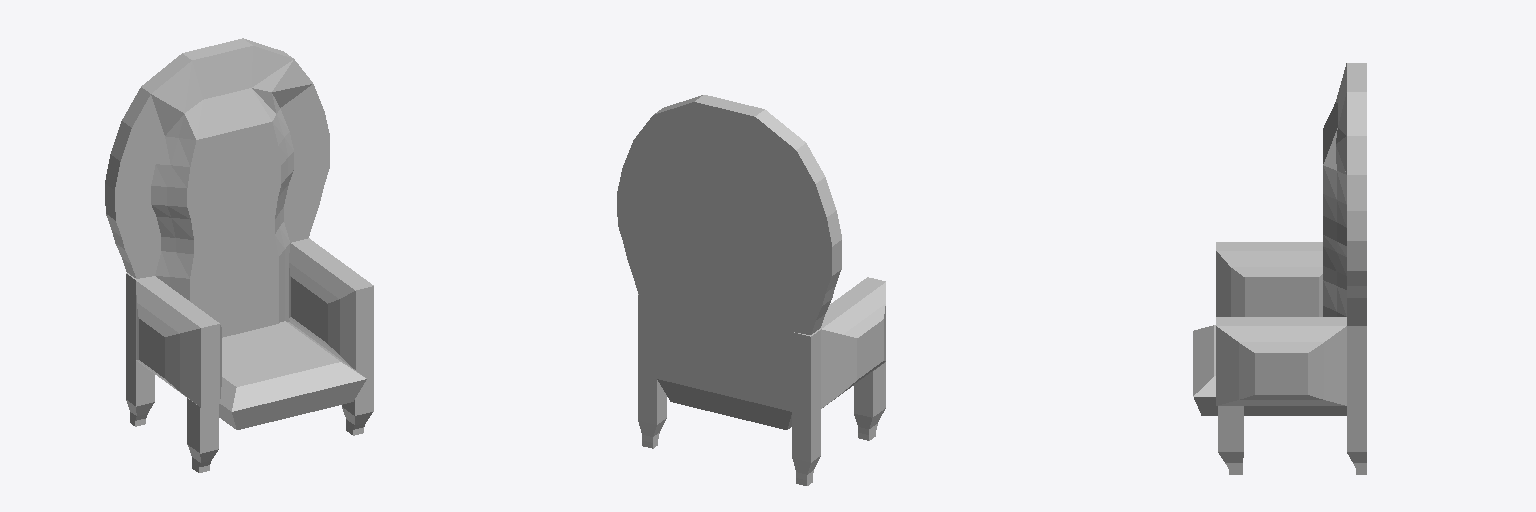
Rendered from Trono.obj.
3 renders of one model, left to right at view 1: azimuth 30°, elevation 25°; view 2: azimuth 150°, elevation 25°; view 3: azimuth 270°, elevation 25°, orthographic.
Parts seen in each view (by area): view 1: pCube1; view 2: pCube1; view 3: pCube1.
Part boxes in pixels (x1,y1,x2,y2): pCube1: (105,38,373,472); pCube1: (617,95,885,485); pCube1: (1193,63,1366,474).
Bounding box in the file's own units: 2.04 × 3.22 × 1.42.